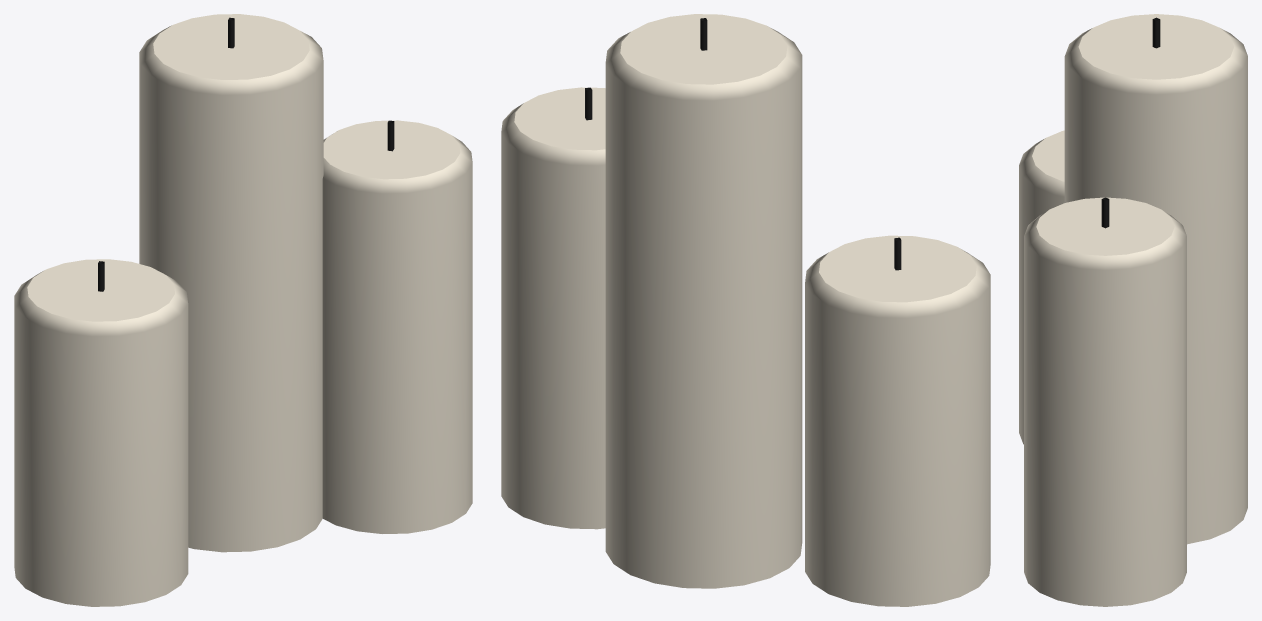
The model's file is FET-CND-trio.glb.
3 views of the same model, side by side, from view 1: azimuth 30°, elevation 25°; view 2: azimuth 150°, elevation 25°; view 3: azimuth 270°, elevation 25° (orthographic). The views are drawn at different scales.
Parts seen in each view (by area): view 1: FET-CND-trio; view 2: FET-CND-trio; view 3: FET-CND-trio.
Boxes of the visible parts, left/top/right/bottom form: FET-CND-trio: left=14, top=14, right=472, bottom=606; FET-CND-trio: left=501, top=14, right=990, bottom=606; FET-CND-trio: left=1019, top=14, right=1247, bottom=606.
Size of the model in its own units: 0.196 by 0.212 by 0.09.
